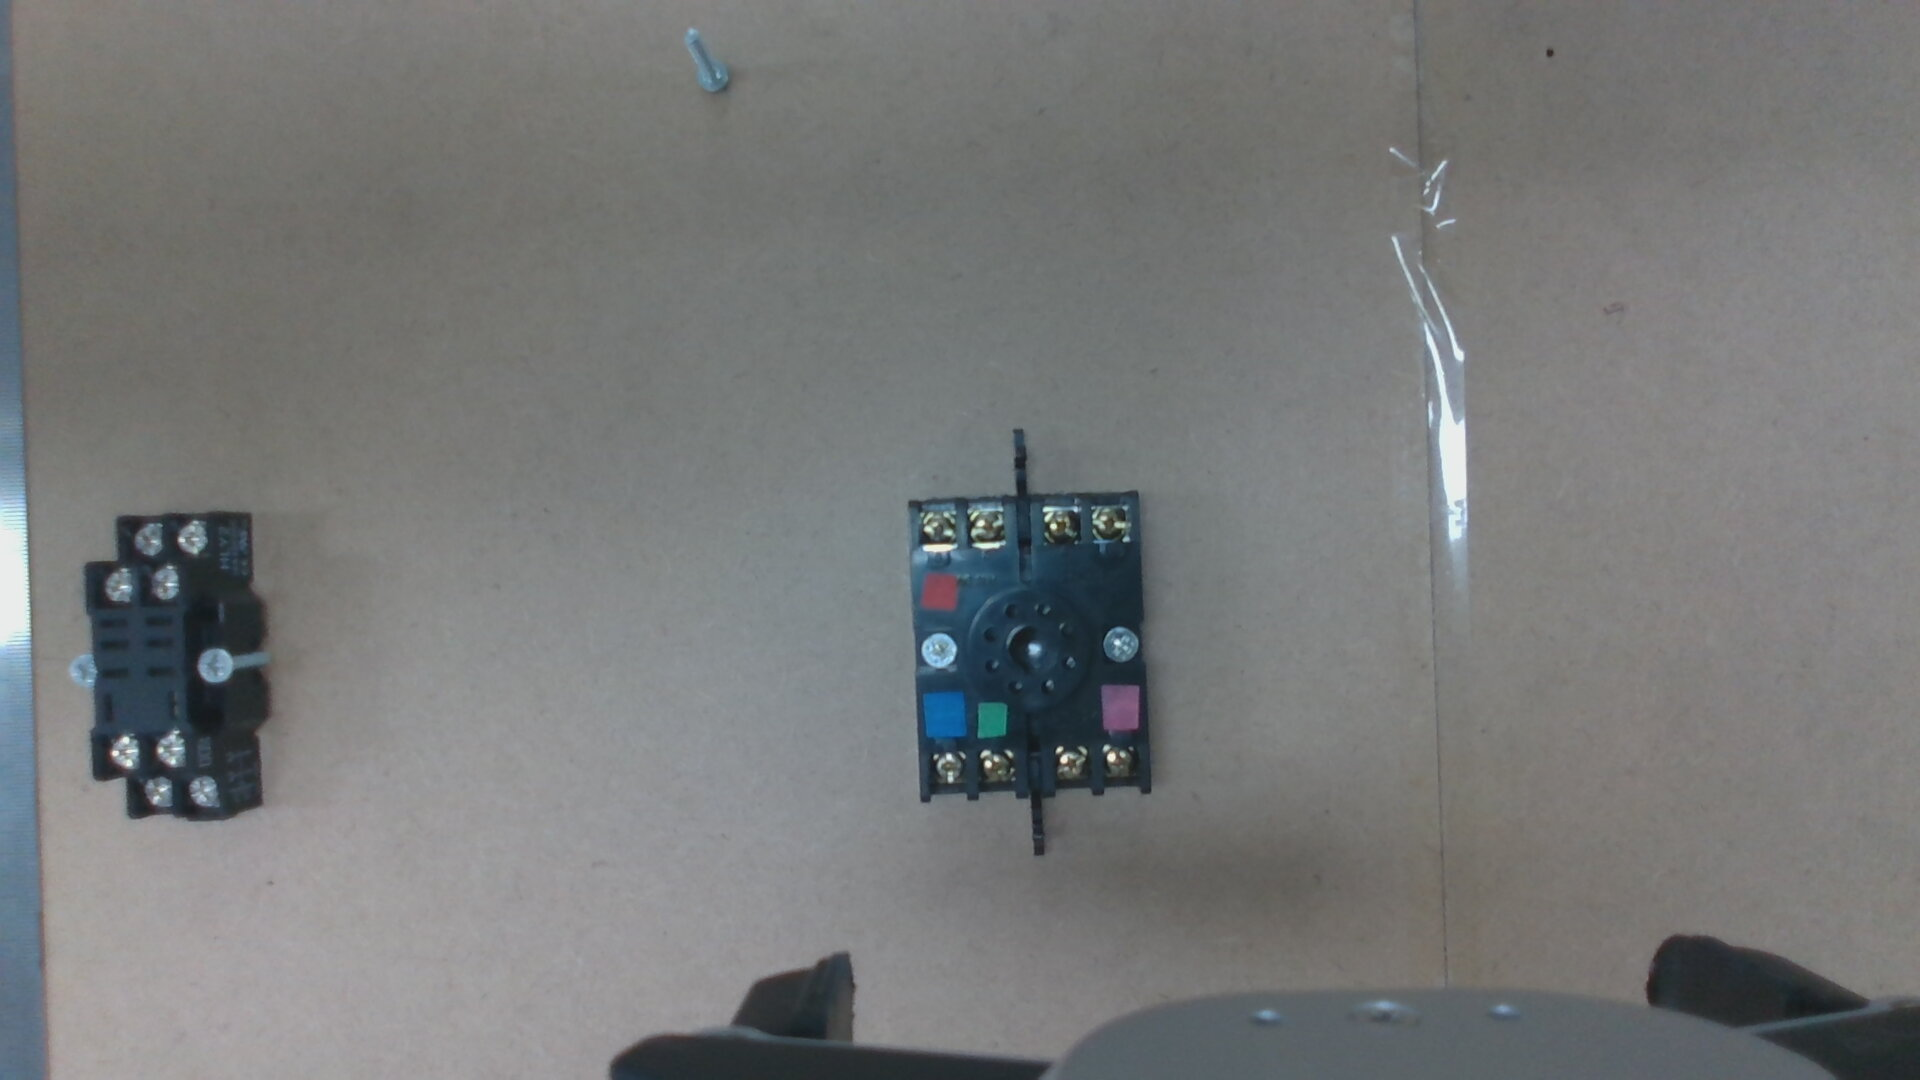timer 2: (1102, 746, 1135, 775)
timer 6: (919, 512, 955, 545)
timer 7: (931, 753, 965, 785)
timer 8: (978, 752, 1011, 781)
